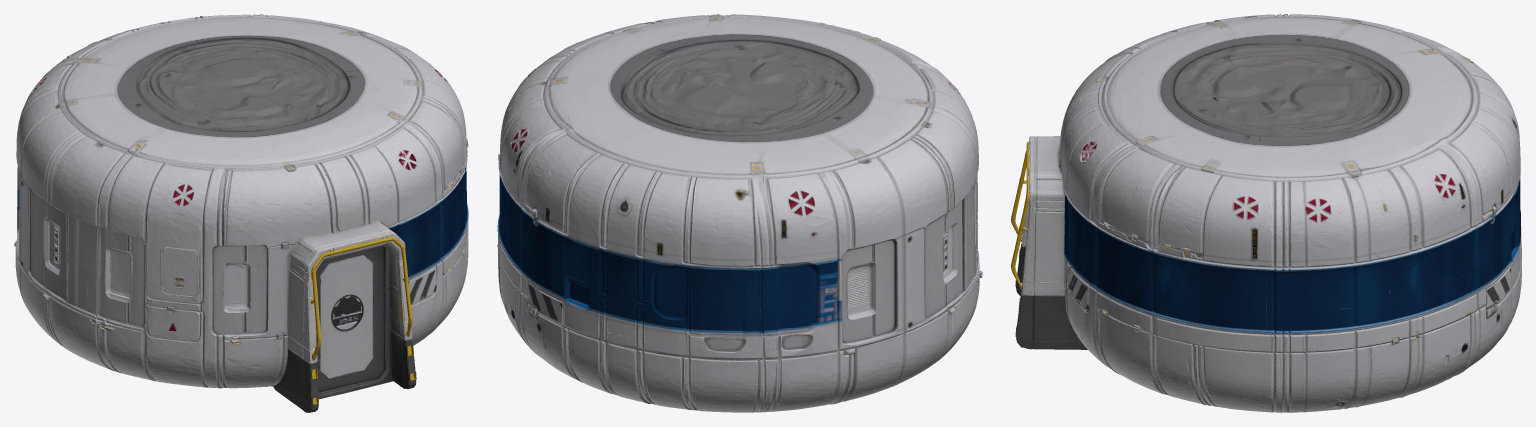
3 renders of one model, left to right at view 1: azimuth 30°, elevation 25°; view 2: azimuth 150°, elevation 25°; view 3: azimuth 270°, elevation 25°, orthographic. The views are drawn at different scales.
Parts seen in each view (by area): view 1: world; view 2: world; view 3: world.
Boxes of the visible parts, x1,y1,x2,y2 form: world: (14,14,468,412); world: (497,14,982,412); world: (1011,14,1521,412).
Size of the model in its own units: 0.9482 by 0.528 by 1.
1 material, 1 textured.
